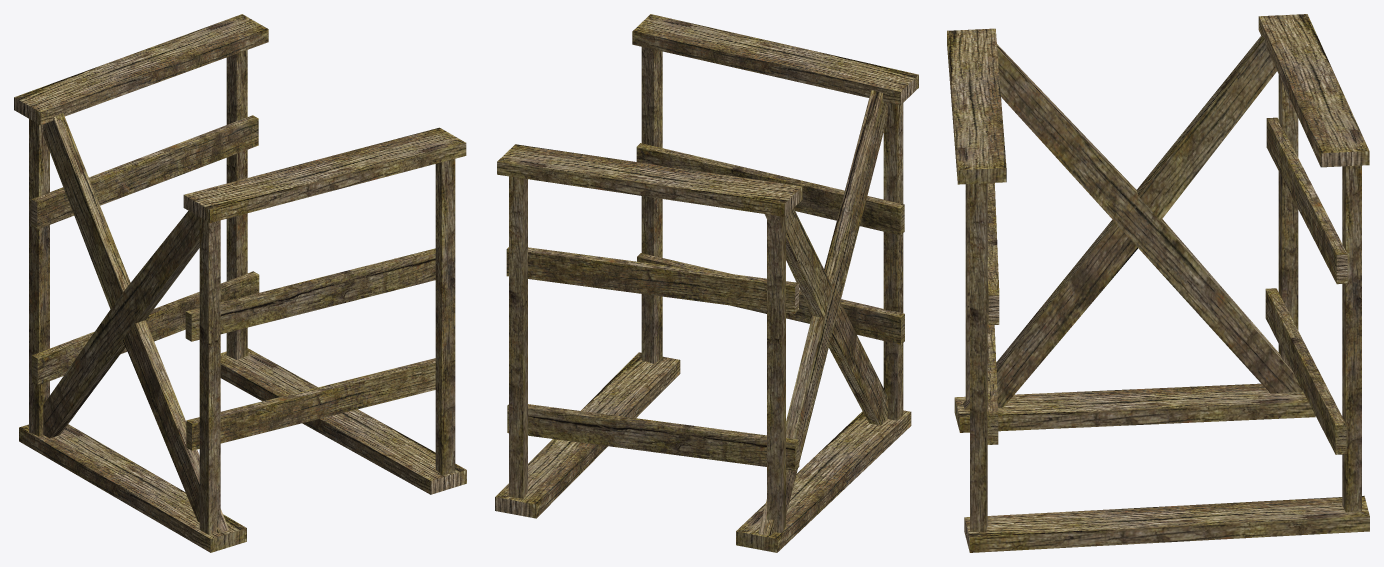
Rendered from SM_I_ScaffoldingWooden.FBX.
3 renders of one model, left to right at view 1: azimuth 30°, elevation 25°; view 2: azimuth 150°, elevation 25°; view 3: azimuth 270°, elevation 25°, orthographic. The views are drawn at different scales.
Visible parts, largest first — view 1: SM_ScaffoldingWooden007; view 2: SM_ScaffoldingWooden007; view 3: SM_ScaffoldingWooden007.
Boxes of the visible parts, bbox=[...] form: SM_ScaffoldingWooden007: bbox=[14, 14, 466, 552]; SM_ScaffoldingWooden007: bbox=[495, 14, 918, 552]; SM_ScaffoldingWooden007: bbox=[947, 14, 1369, 552].
Size of the model in its own units: 57.72 by 64 by 64.64.
